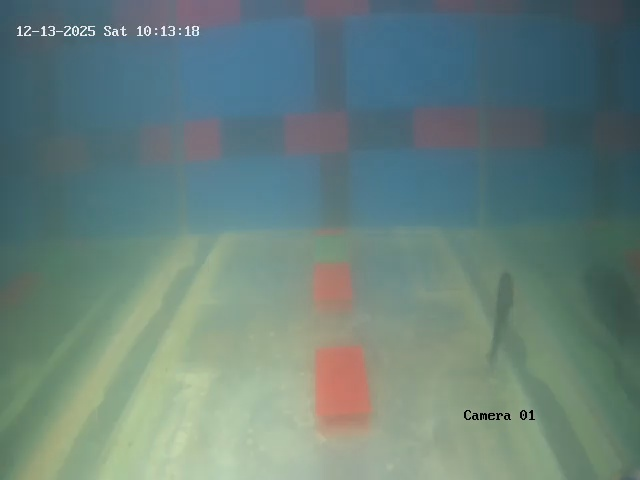fish: (480, 261, 518, 386)
